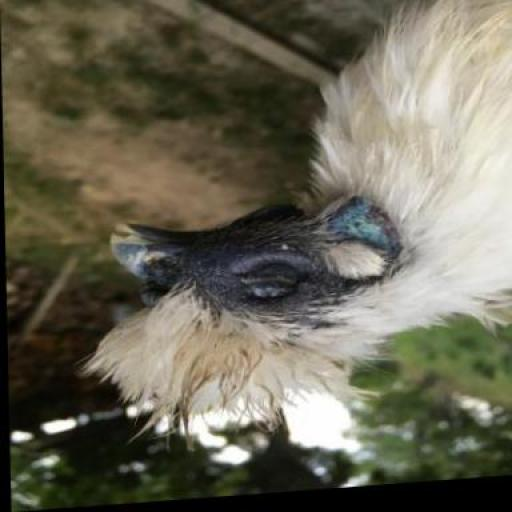disease: (183, 216, 343, 324)
